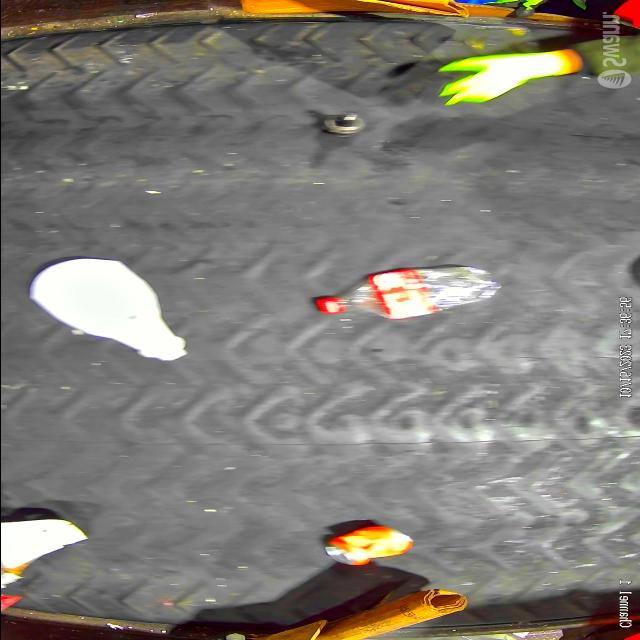can: (322, 522, 409, 568)
plastic_bottle: (310, 264, 499, 318)
